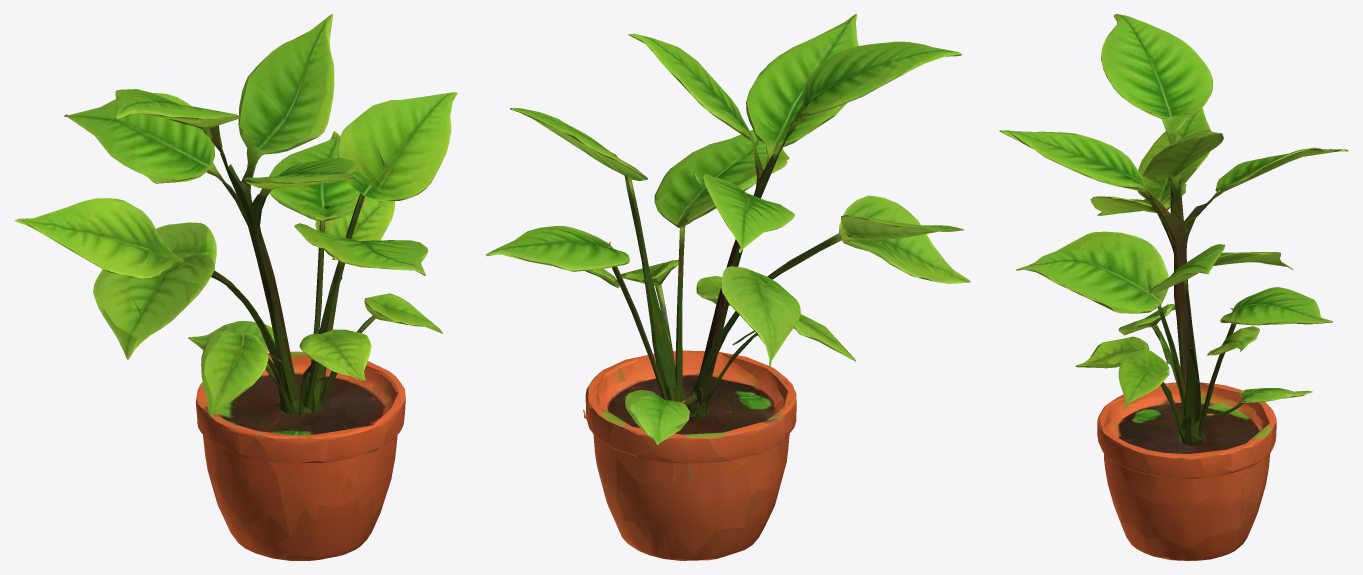
Rendered from plant.glb.
3 views of the same model, side by side, from view 1: azimuth 30°, elevation 25°; view 2: azimuth 150°, elevation 25°; view 3: azimuth 270°, elevation 25° (orthographic). The views are drawn at different scales.
Bounding box in the file's own units: 1.76 × 1.9 × 1.4.
1 material, 1 textured.
